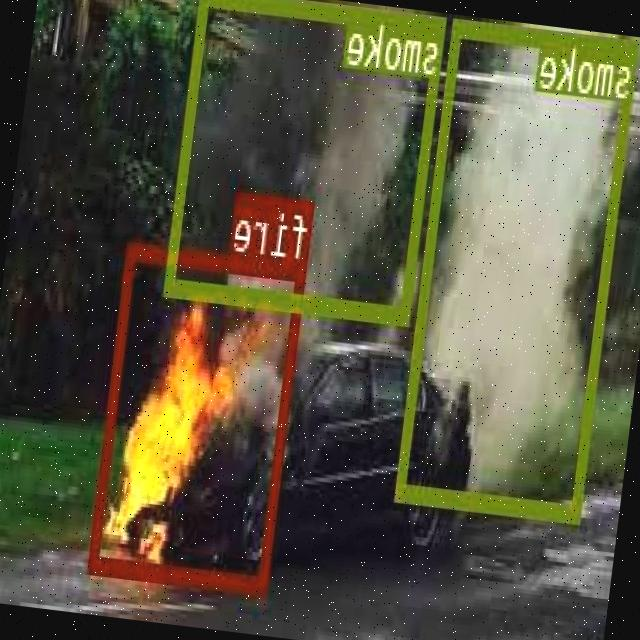fire: (90, 241, 308, 590)
smoke: (396, 14, 640, 520), (165, 0, 447, 323)
